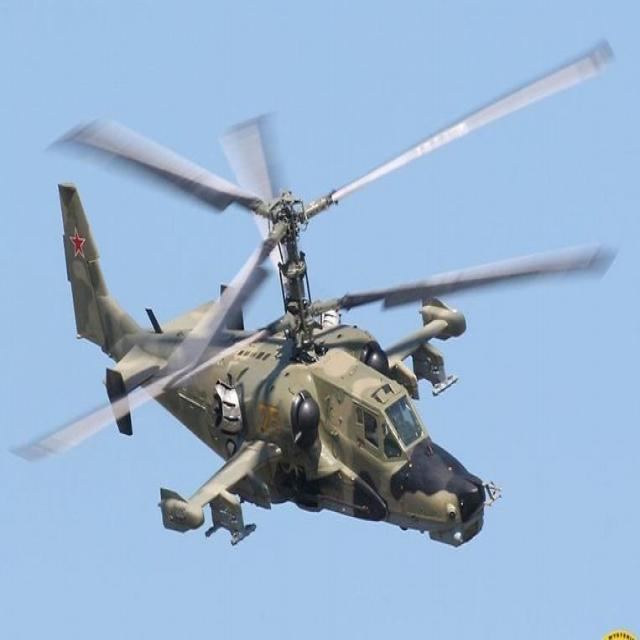MIL_HELO: (26, 43, 623, 572)
